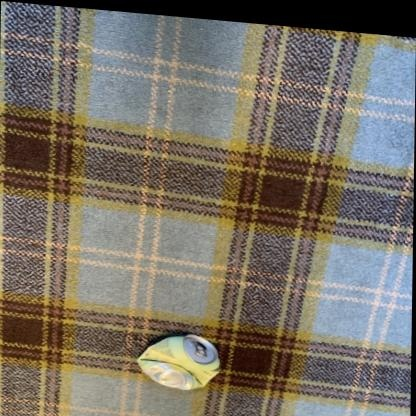trash: (138, 335, 219, 389)
